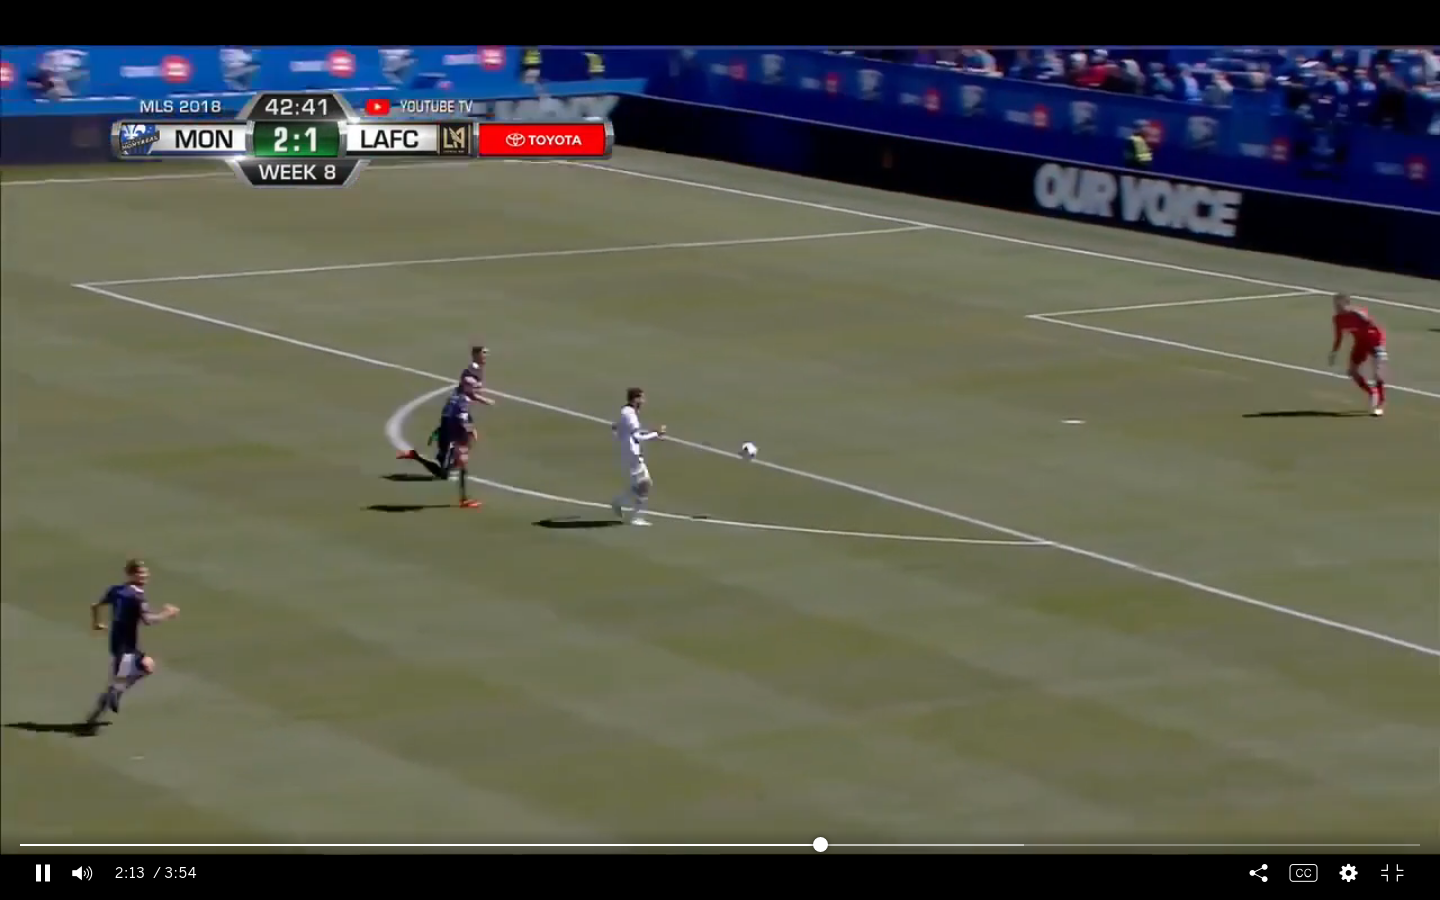soccer player: (82, 557, 179, 737), (398, 342, 504, 476), (601, 386, 673, 539), (1322, 285, 1399, 419), (427, 376, 484, 519)
soccerball: (738, 439, 759, 466)
